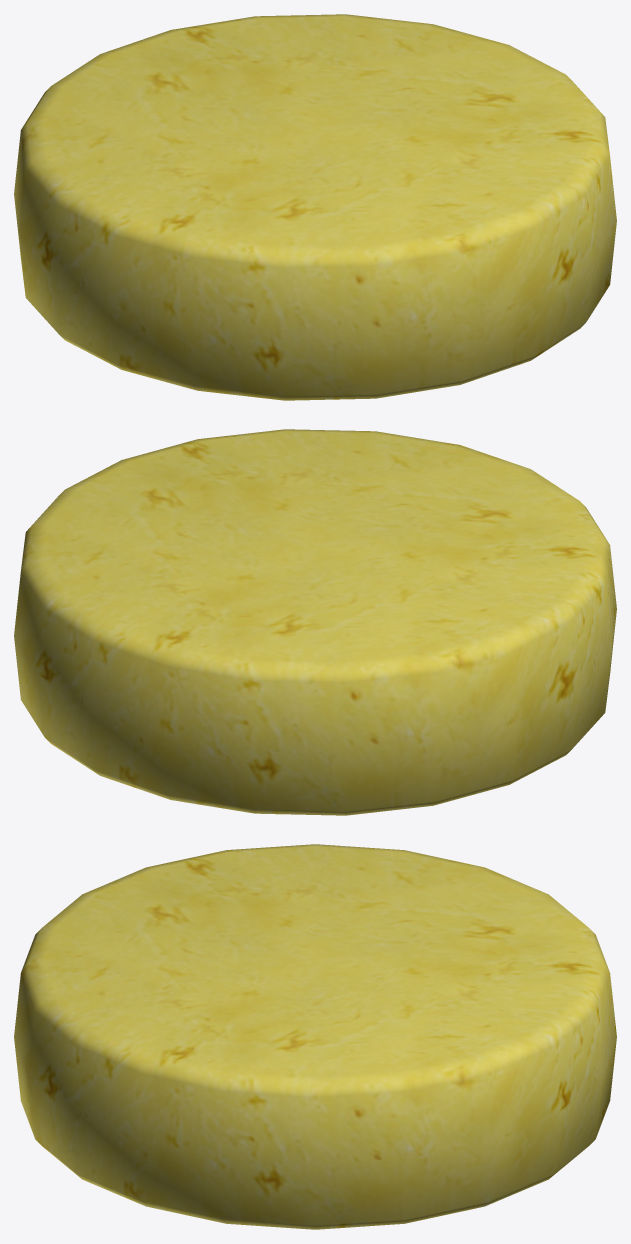
File: Cheese_whole.fbx
The picture shows the model from 3 angles, top to bottom: view 1: azimuth 30°, elevation 25°; view 2: azimuth 150°, elevation 25°; view 3: azimuth 270°, elevation 25°; orthographic projection.
Visible parts, largest first — view 1: Whole; view 2: Whole; view 3: Whole.
Part boxes in pixels (<box>): Whole: <box>14,14,616,400</box>; Whole: <box>14,429,616,815</box>; Whole: <box>14,844,616,1229</box>.
Size of the model in its own units: 0.2621 by 0.0722 by 0.2621.
